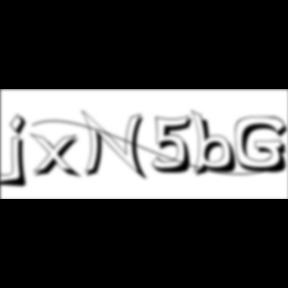5: (152, 114, 198, 176)
N: (81, 109, 151, 183)
b: (190, 109, 244, 179)
j: (7, 113, 34, 191)
x: (31, 132, 86, 181)
